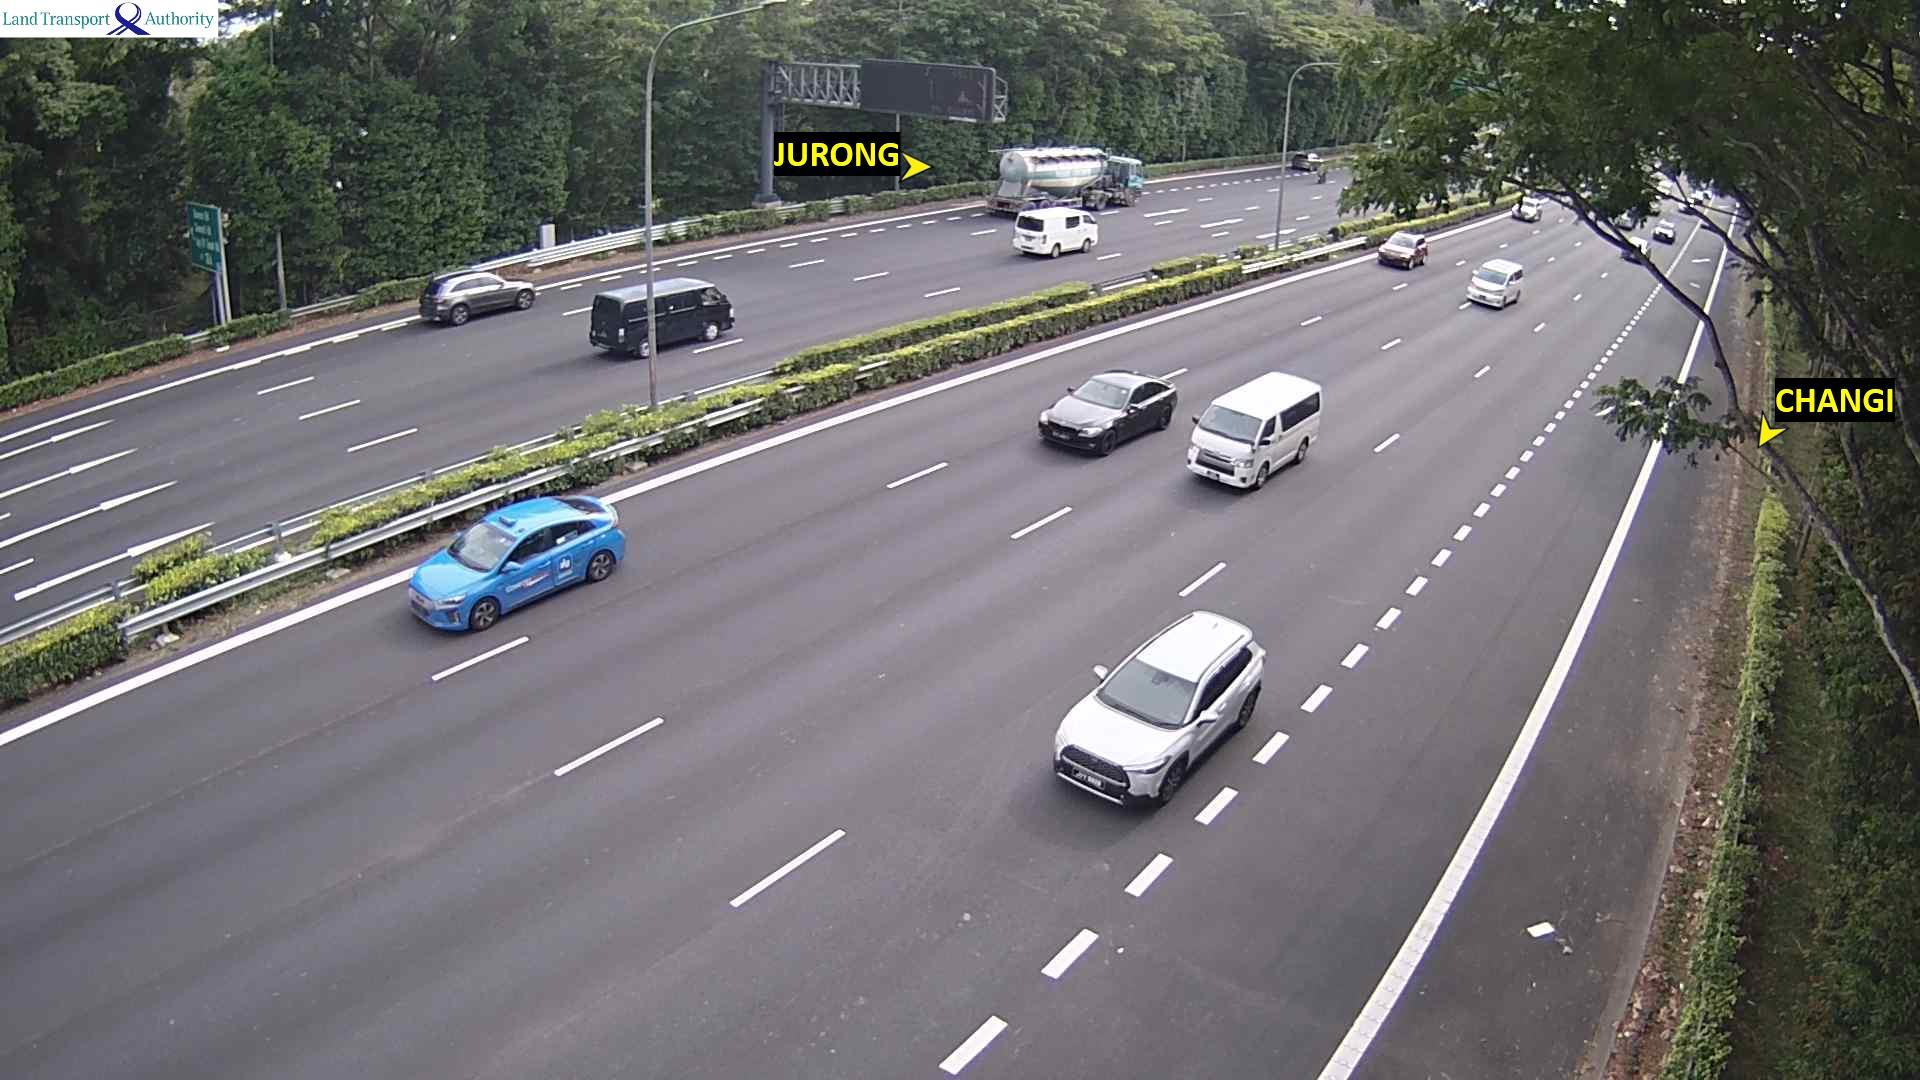cars: (1051, 608, 1267, 810), (406, 491, 625, 633), (1185, 371, 1323, 491), (1036, 368, 1180, 456), (587, 276, 735, 357), (418, 269, 535, 326), (1011, 206, 1098, 258), (1465, 258, 1523, 309), (1377, 229, 1427, 269), (1510, 194, 1542, 222), (1619, 236, 1651, 262), (1288, 150, 1321, 171), (1613, 207, 1642, 229), (1651, 218, 1675, 243), (1676, 194, 1698, 219)
motorcycle: (1315, 162, 1332, 187)
trucks: (986, 148, 1146, 218)
